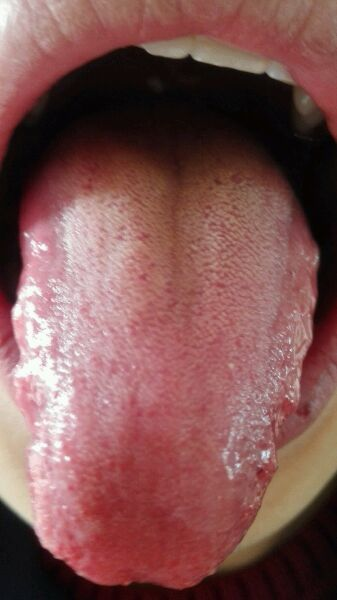baitaishe: (10, 110, 320, 592)
hongshe: (10, 110, 320, 592)
